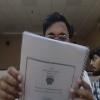notebook: (16, 30, 90, 99)
